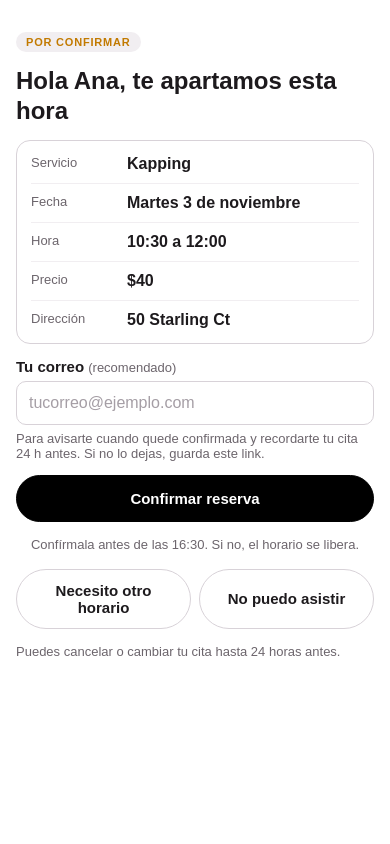
Test: ConfirmarComponent (link de la clienta) › no puedo: pide confirmacion antes de liberar
Click the button "No puedo asistir" at {"x": 286, "y": 599}, box [199,569,374,629]
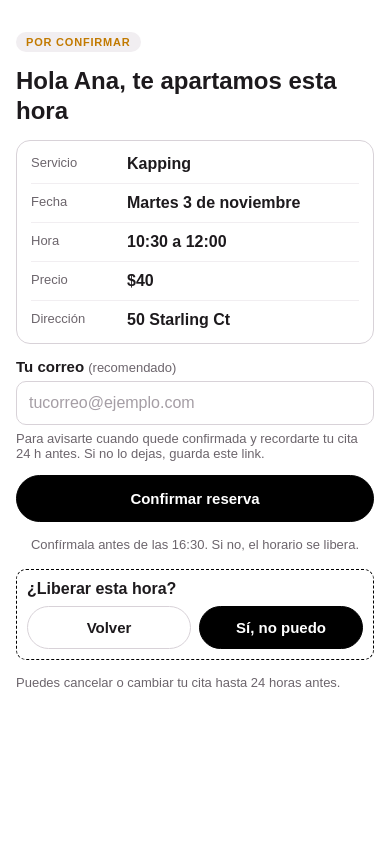
Click the button "Sí, no puedo" at {"x": 281, "y": 627}, box [199,606,363,649]
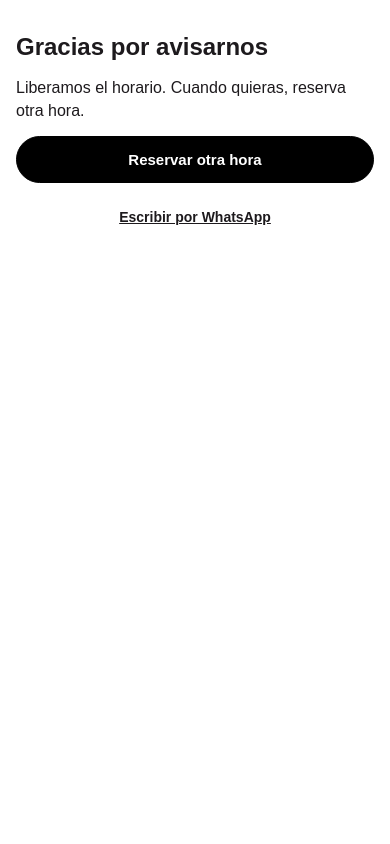
Result: the text "Gracias por avisarnos" is shown at [16,33,268,60]
